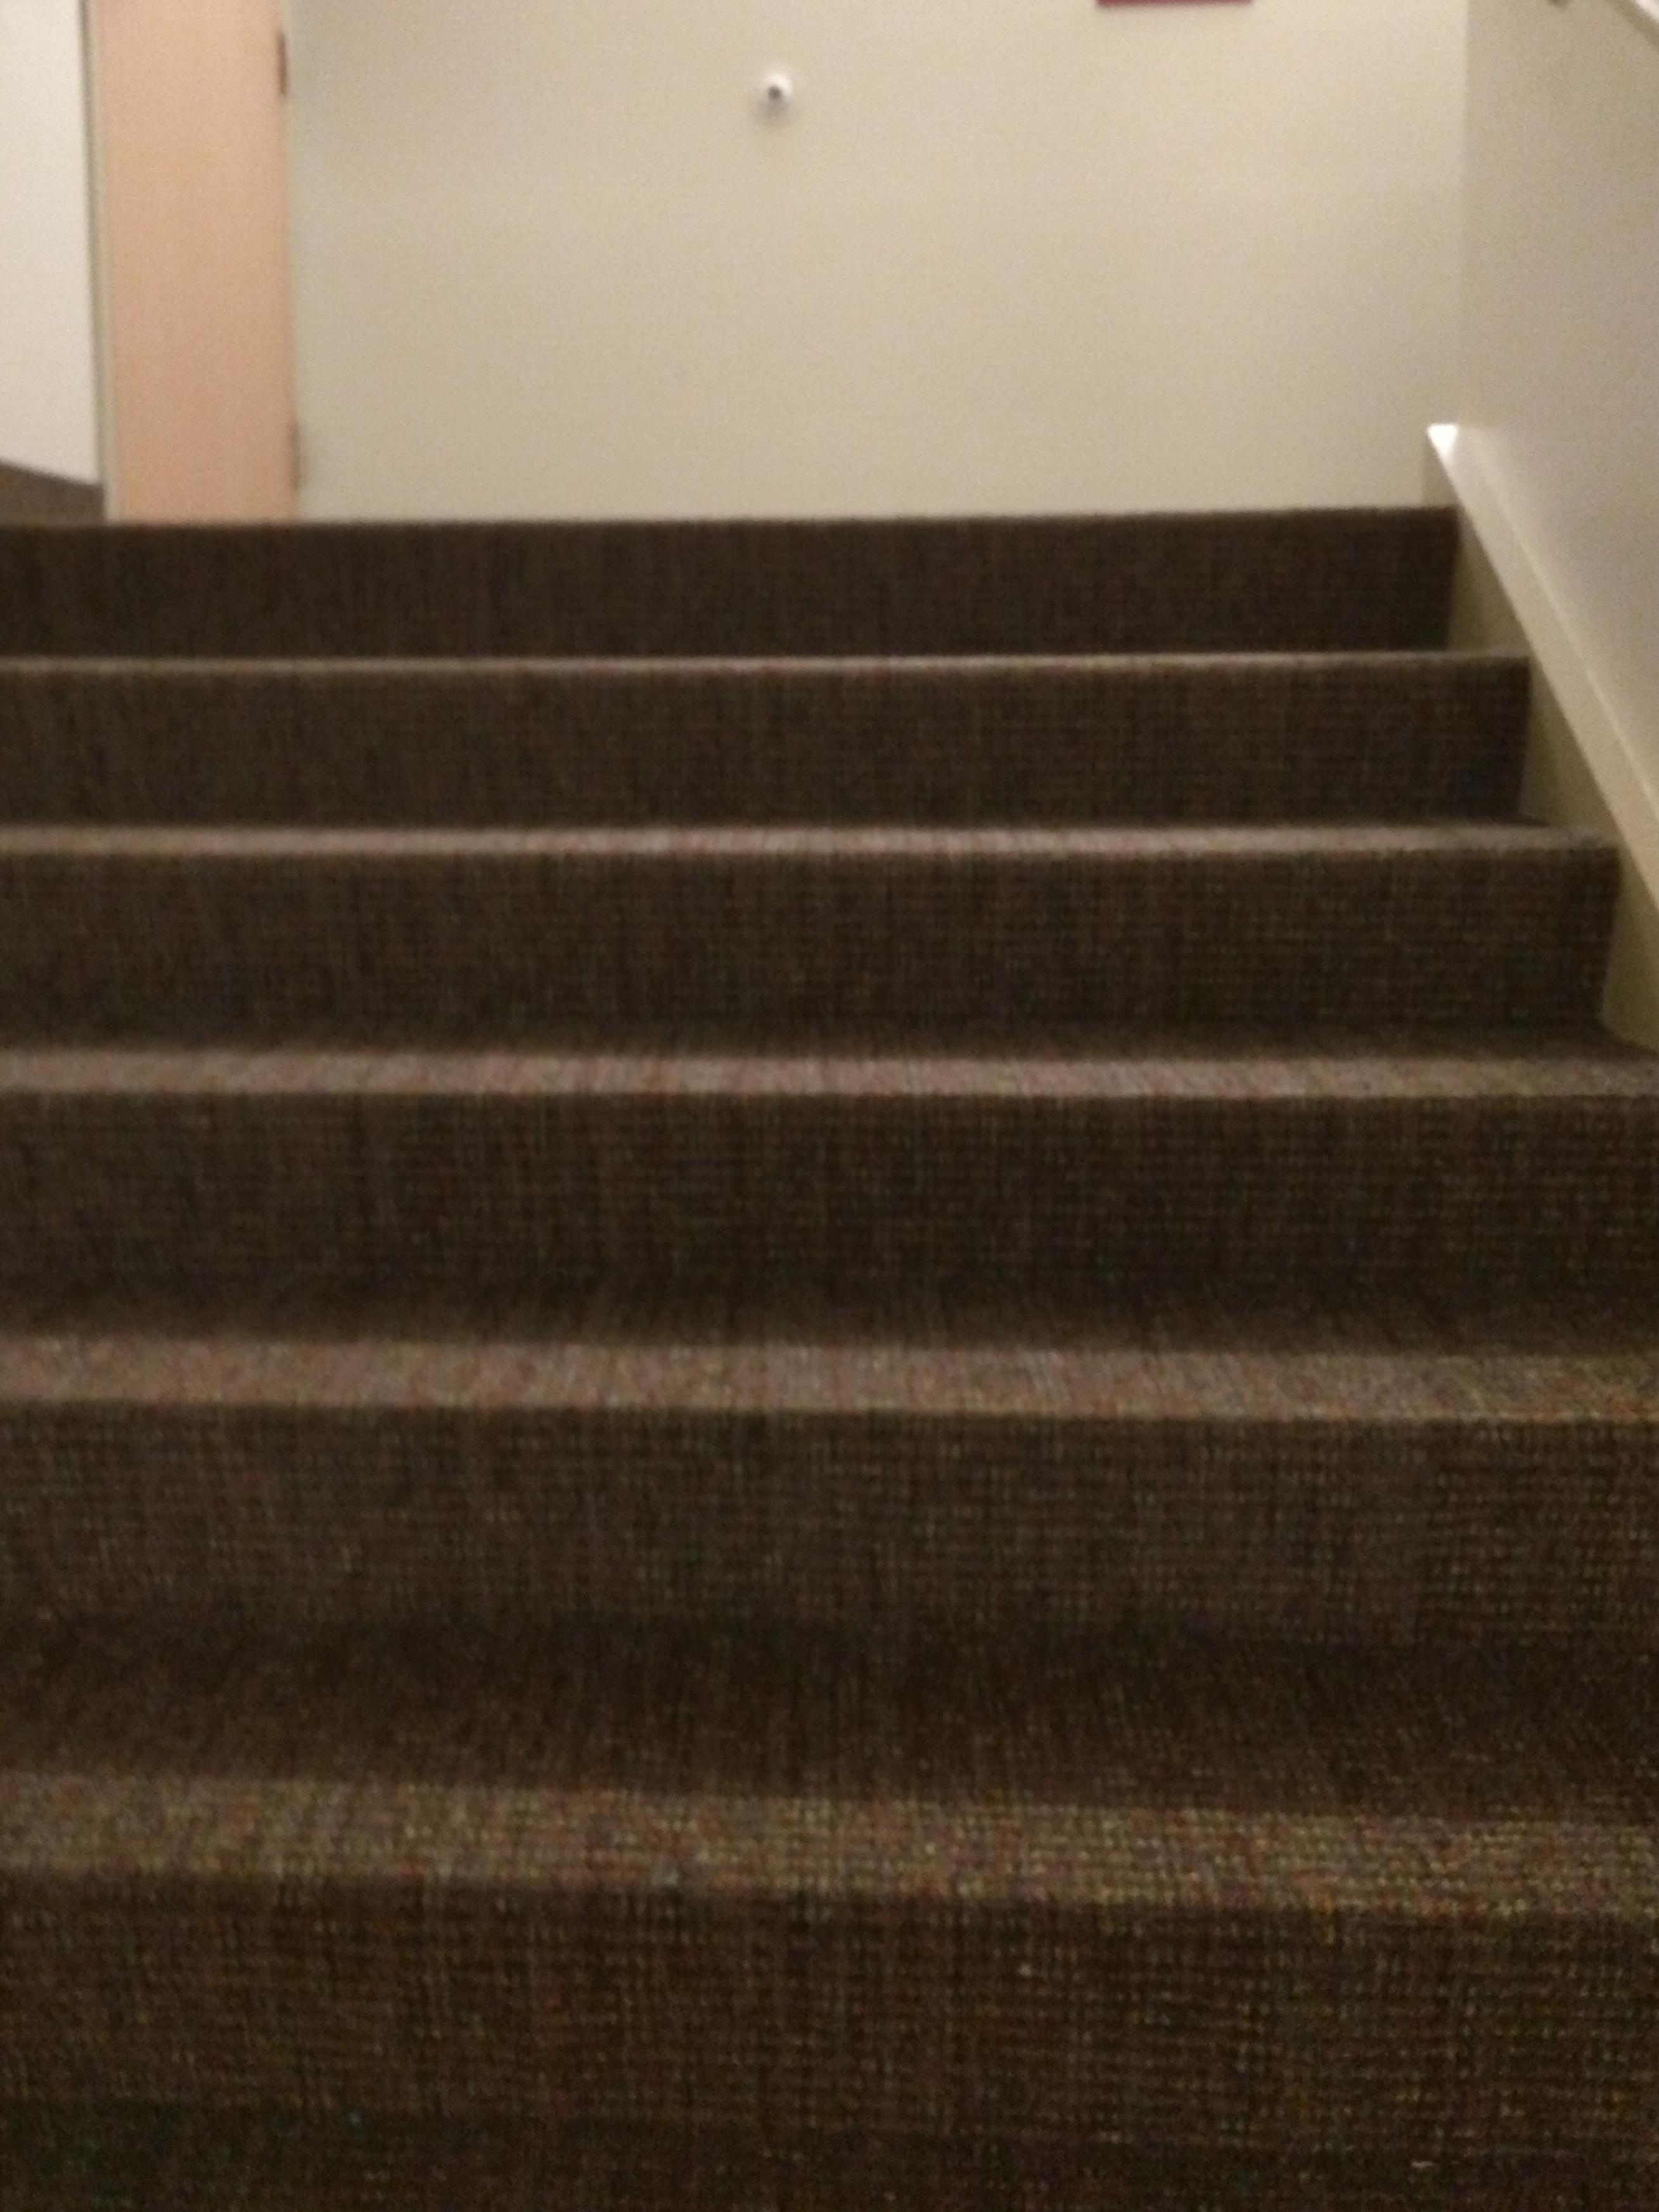stairs_up: (10, 493, 1659, 2074)
